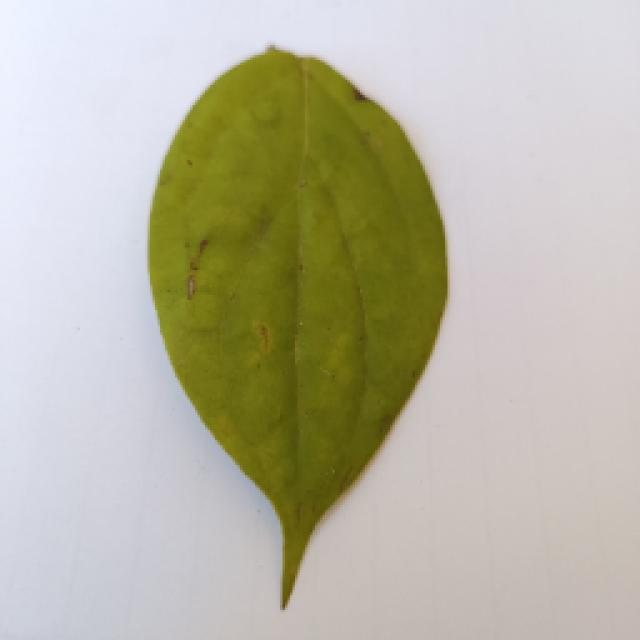slow-decline: (102, 45, 472, 610)
